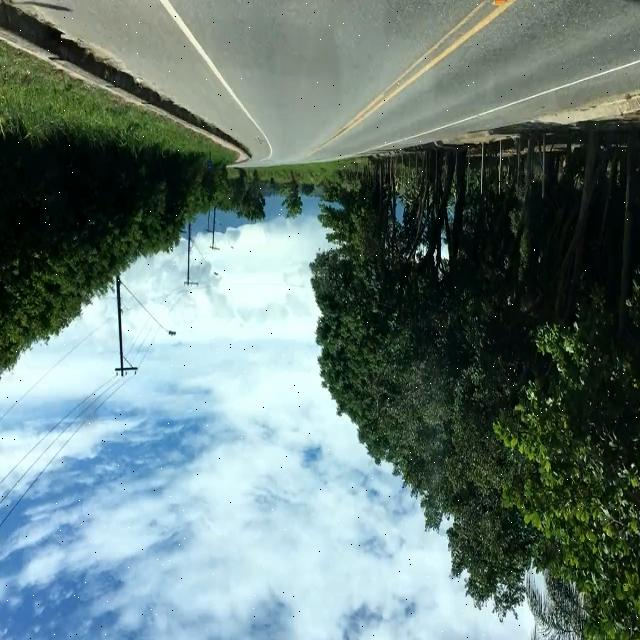lane: (314, 0, 514, 152), (381, 59, 640, 147), (161, 0, 272, 160)
road: (15, 2, 640, 167)
